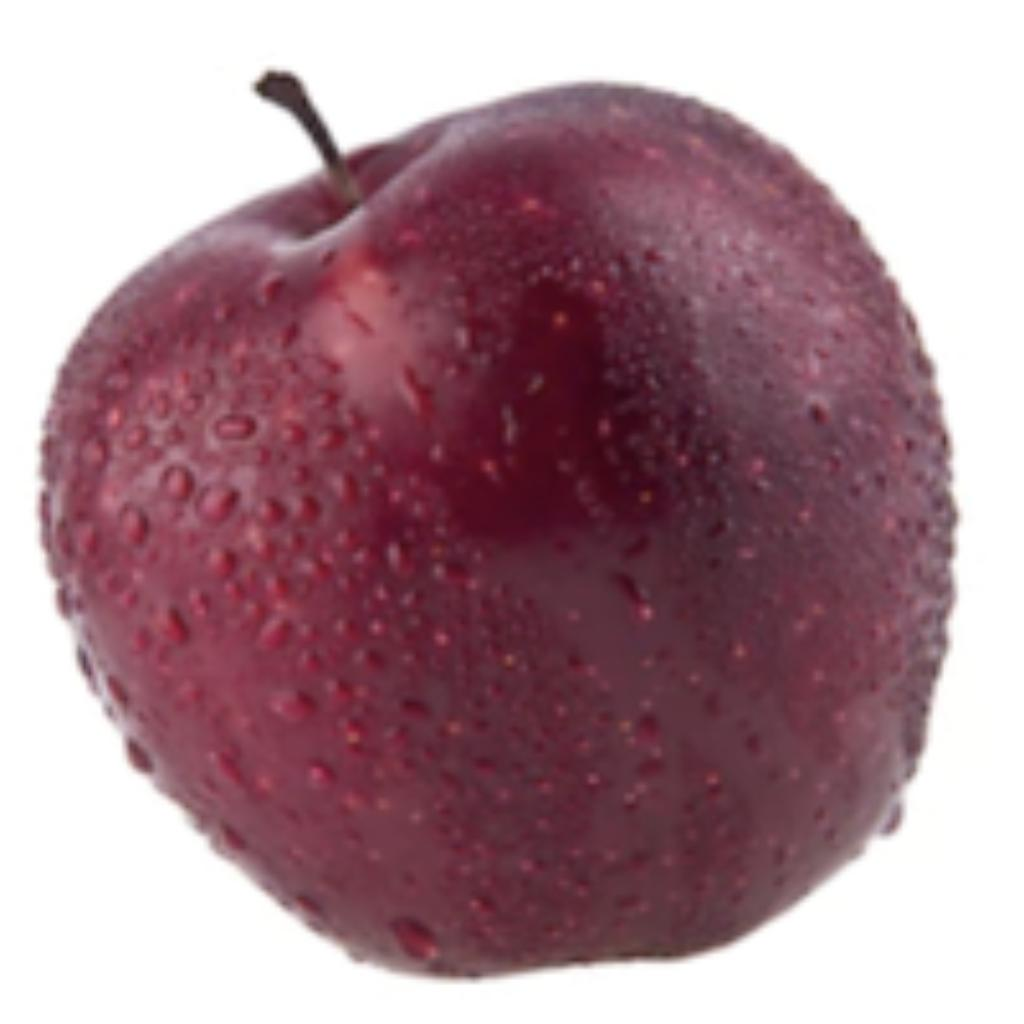apple: (26, 61, 963, 983)
